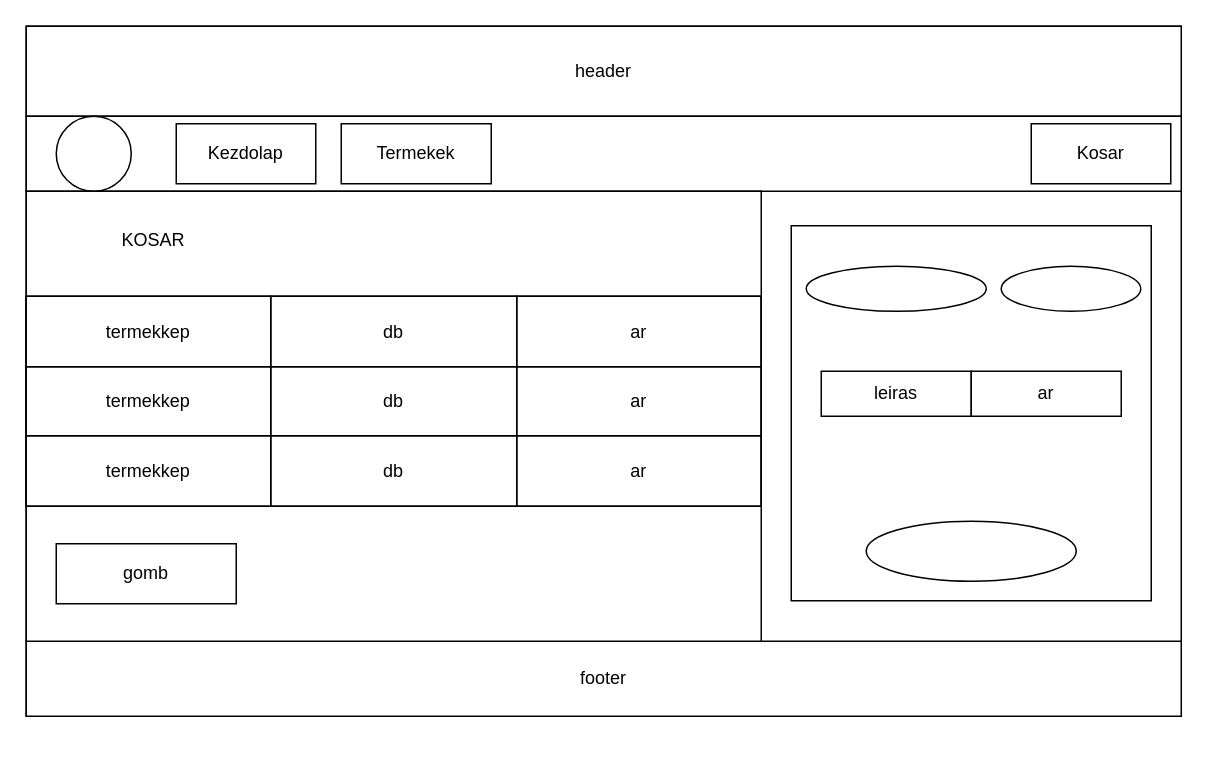
Some shapes in this 1208 by 758 pixel diagram are drawn without their labels. The box of each missing label's shape, as (x1, y1, x2, y2) in pixels:
fizetes: (865, 520, 1076, 581)
kupon: (805, 265, 986, 311)
logo: (55, 115, 131, 191)
OK: (1000, 265, 1141, 311)
